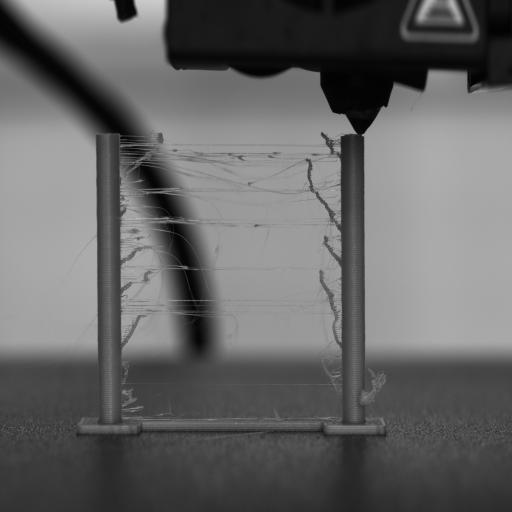spaghetti_and_stringing: (119, 130, 343, 349)
